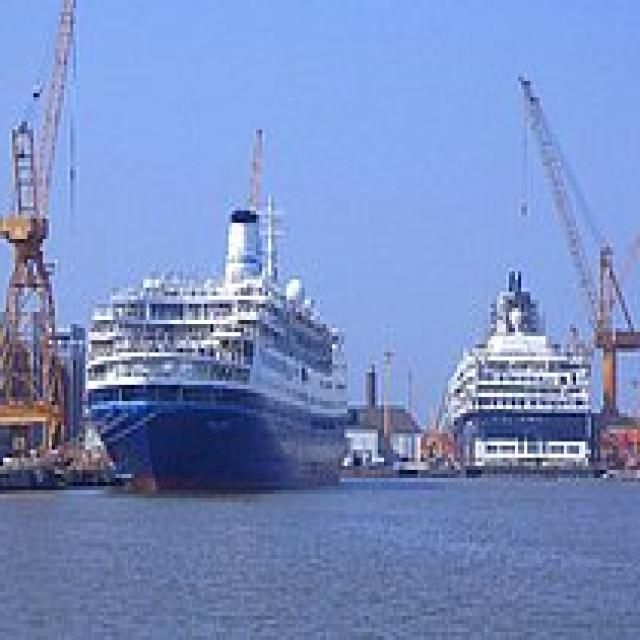Cruise: (82, 182, 357, 498), (445, 259, 597, 478)
